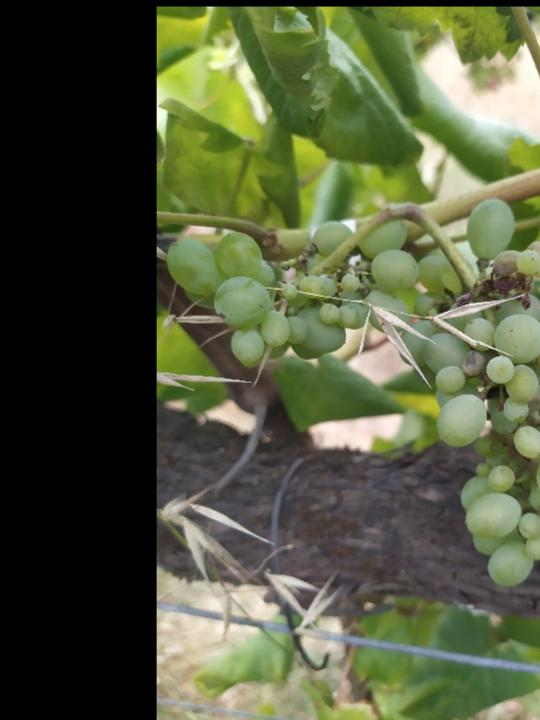grape: (167, 200, 540, 618)
